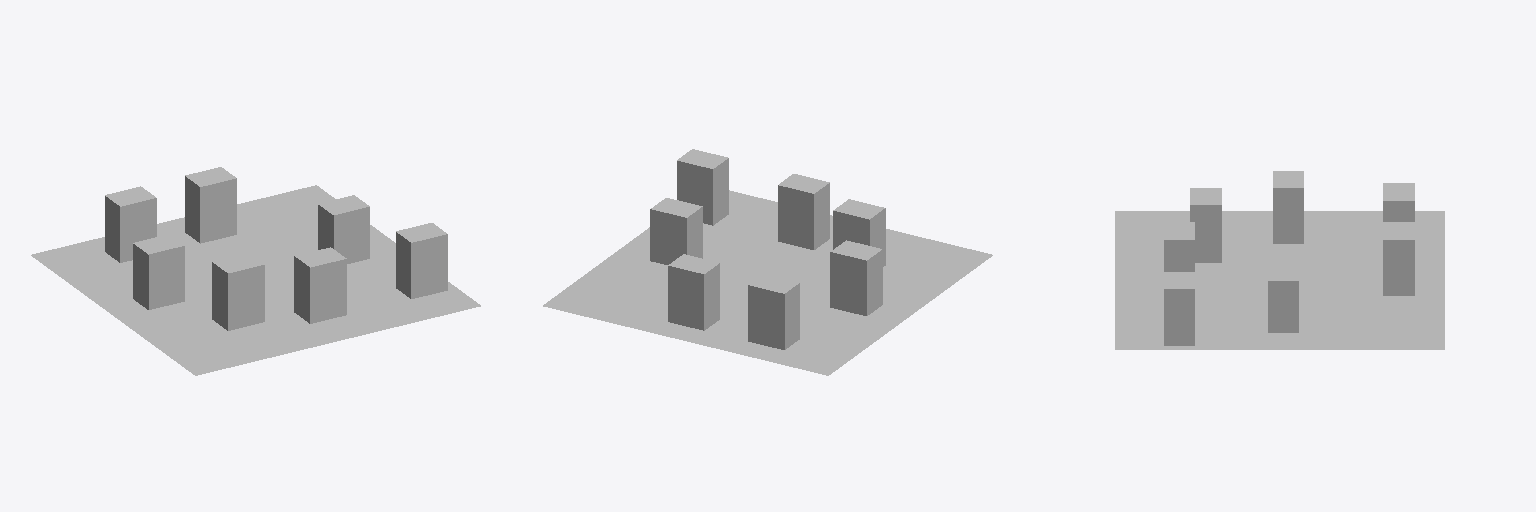
File: huge.obj
3 renders of one model, left to right at view 1: azimuth 30°, elevation 25°; view 2: azimuth 150°, elevation 25°; view 3: azimuth 270°, elevation 25°, orthographic.
Visible parts, largest first — view 1: Grid, Cube.002, Cube.007, Cube.004, Cube.003, Cube.005, Cube.001, Cube.006; view 2: Grid, Cube.005, Cube.004, Cube.001, Cube.007, Cube.003, Cube.006, Cube.002; view 3: Grid, Cube.004, Cube.003, Cube.005, Cube.002, Cube.006, Cube.007, Cube.001.
Boxes of the visible parts, x1=… form: Grid: x1=31, y1=185, x2=480, y2=375; Cube.002: x1=212, y1=253, x2=264, y2=330; Cube.007: x1=294, y1=247, x2=346, y2=323; Cube.004: x1=185, y1=167, x2=236, y2=243; Cube.003: x1=396, y1=223, x2=447, y2=298; Cube.005: x1=133, y1=234, x2=184, y2=309; Cube.001: x1=105, y1=186, x2=156, y2=262; Cube.006: x1=318, y1=195, x2=369, y2=263; Grid: x1=543, y1=190, x2=992, y2=375; Cube.005: x1=830, y1=240, x2=882, y2=315; Cube.004: x1=668, y1=254, x2=719, y2=330; Cube.001: x1=748, y1=274, x2=799, y2=349; Cube.007: x1=778, y1=174, x2=829, y2=249; Cube.003: x1=677, y1=149, x2=728, y2=225; Cube.006: x1=650, y1=198, x2=702, y2=264; Cube.002: x1=833, y1=199, x2=885, y2=266; Grid: x1=1115, y1=211, x2=1444, y2=349; Cube.004: x1=1383, y1=222, x2=1414, y2=295; Cube.003: x1=1164, y1=272, x2=1194, y2=345; Cube.005: x1=1273, y1=171, x2=1303, y2=243; Cube.002: x1=1190, y1=188, x2=1221, y2=262; Cube.006: x1=1268, y1=263, x2=1298, y2=332; Cube.007: x1=1164, y1=222, x2=1194, y2=271; Cube.001: x1=1383, y1=183, x2=1414, y2=221.
Size of the model in its own units: 200 by 43.97 by 200.